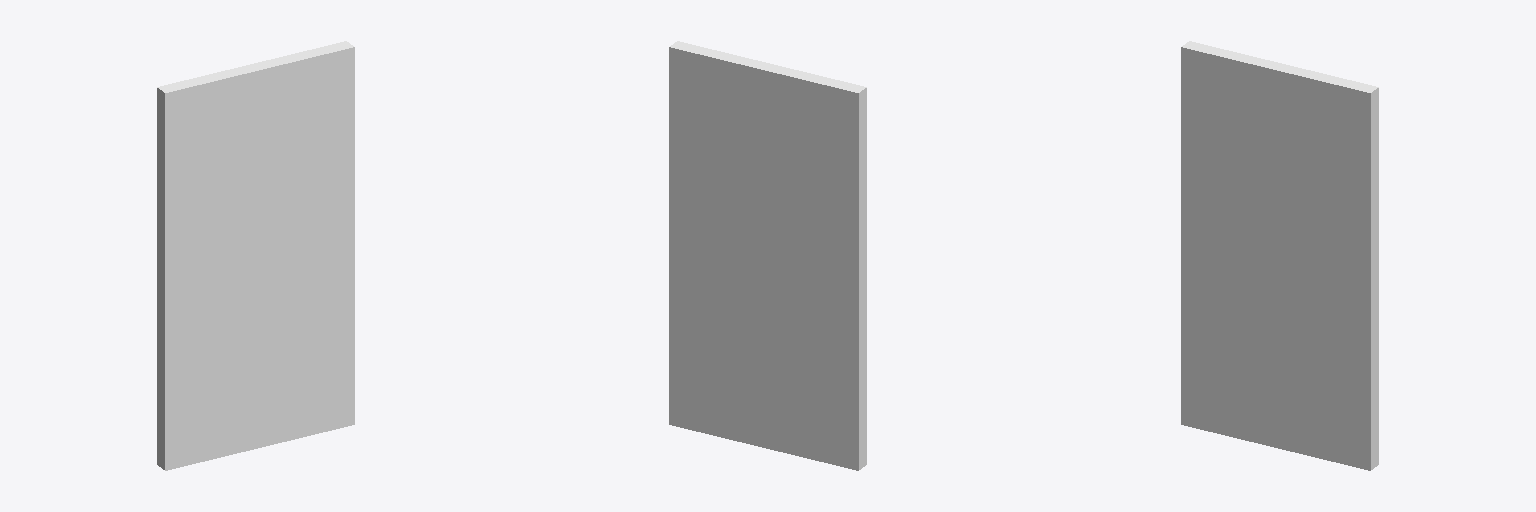
Rendered from Wall_13.obj.
The picture shows the model from 3 angles: view 1: azimuth 30°, elevation 25°; view 2: azimuth 150°, elevation 25°; view 3: azimuth 330°, elevation 25°; orthographic projection.
Parts seen in each view (by area): view 1: Mesh14_Group16_Model; view 2: Mesh14_Group16_Model; view 3: Mesh14_Group16_Model.
Boxes of the visible parts, box(x1,y1,x2,y2) form: Mesh14_Group16_Model: box(157, 41, 354, 470); Mesh14_Group16_Model: box(669, 41, 866, 470); Mesh14_Group16_Model: box(1181, 41, 1378, 470).
Size of the model in its own units: 63 by 120 by 4.81.